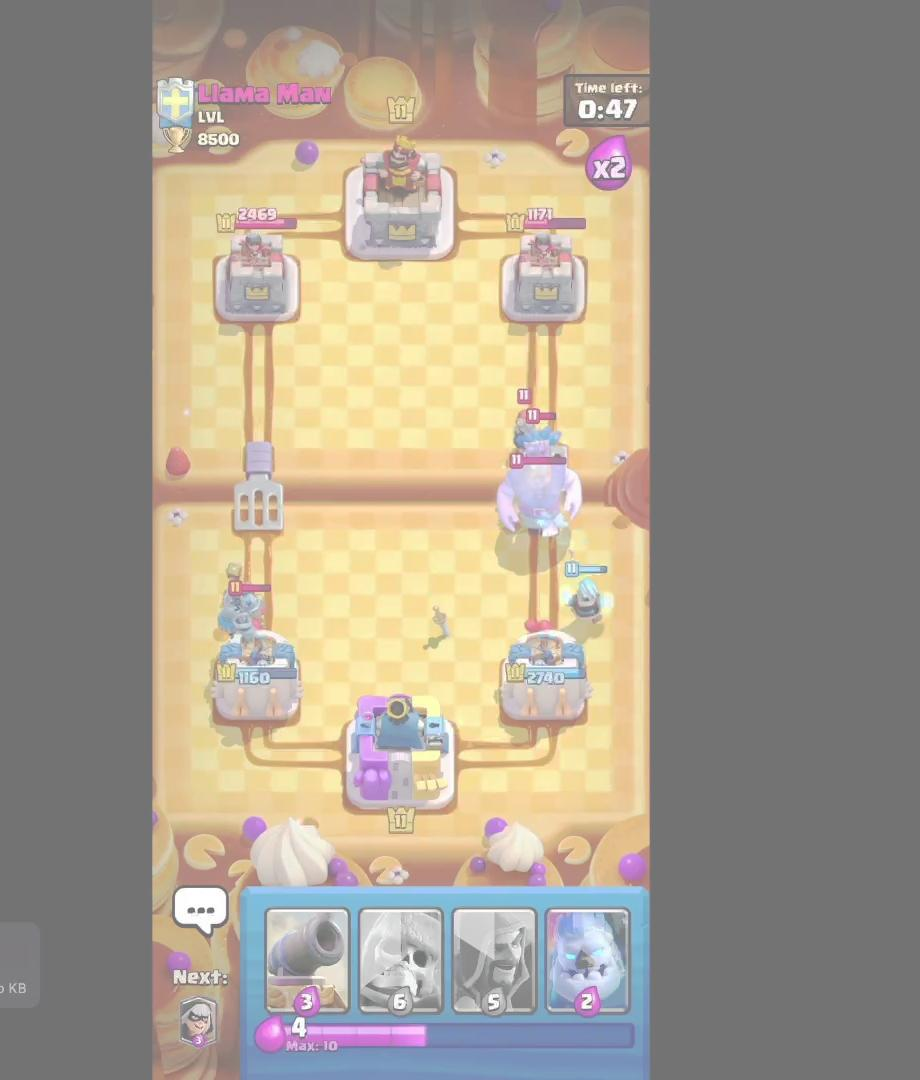Giant: (490, 449, 593, 548)
